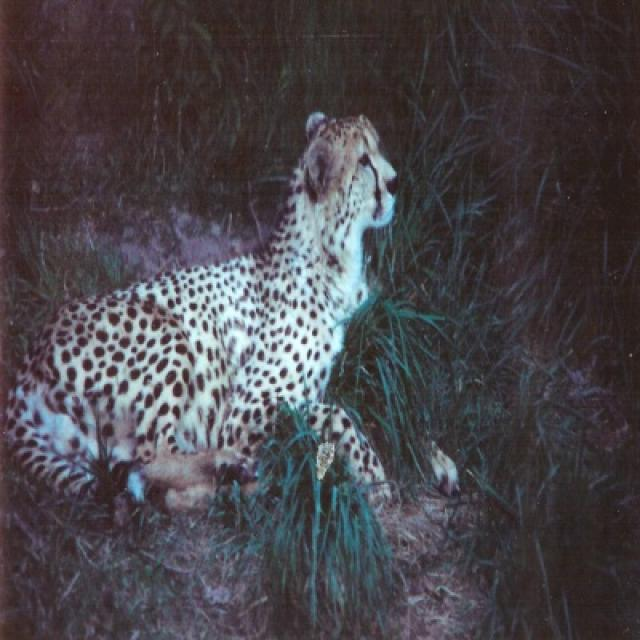Cheetah: (5, 114, 398, 512)
